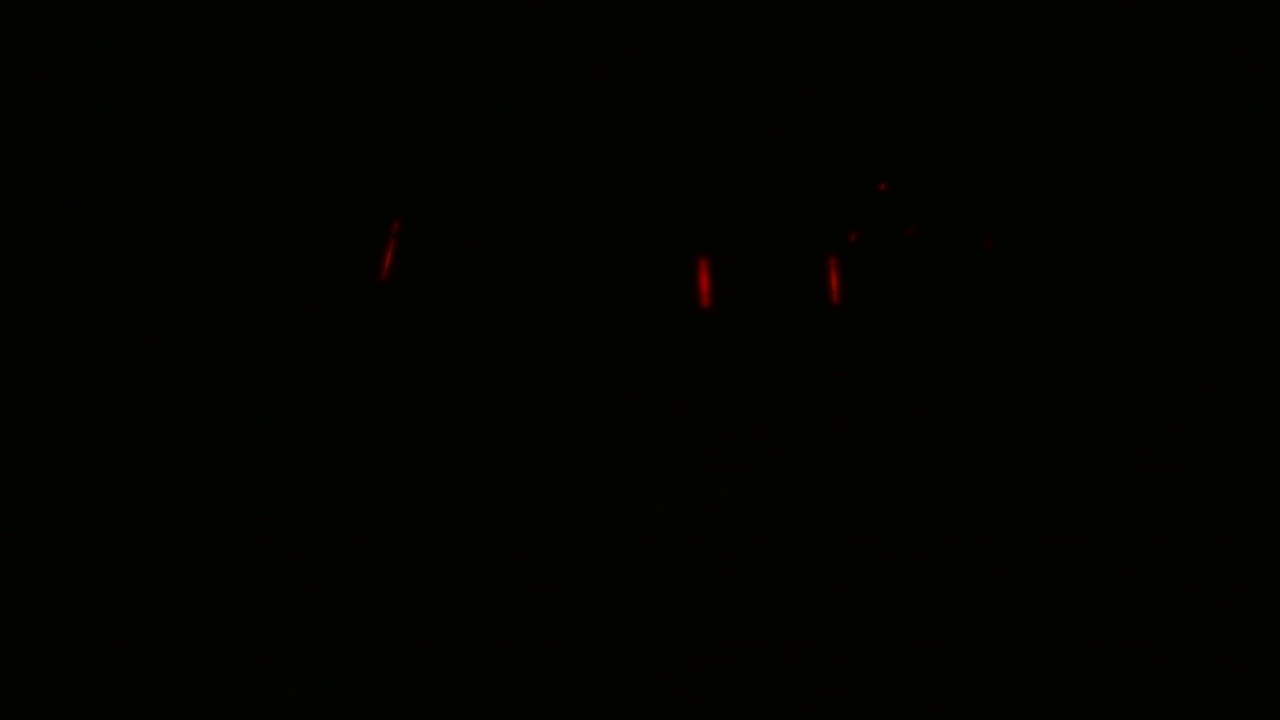pair1: (692, 249, 844, 311)
